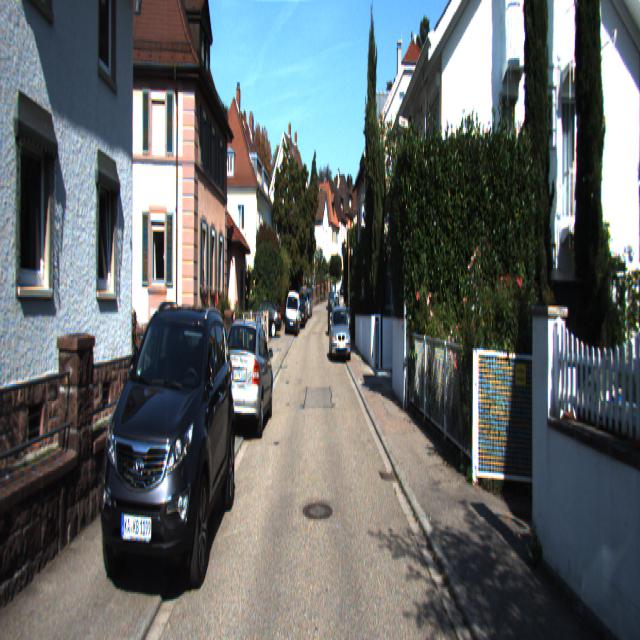Car: (94, 273, 238, 604), (218, 316, 274, 439), (329, 304, 351, 363), (284, 290, 300, 336)
